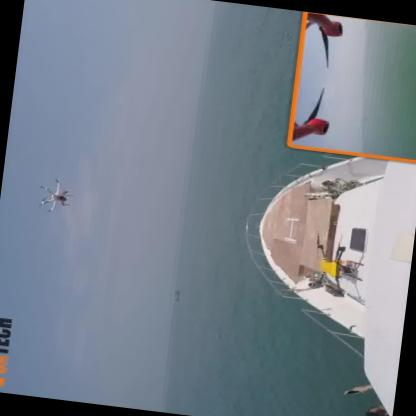drone: (27, 168, 85, 218)
